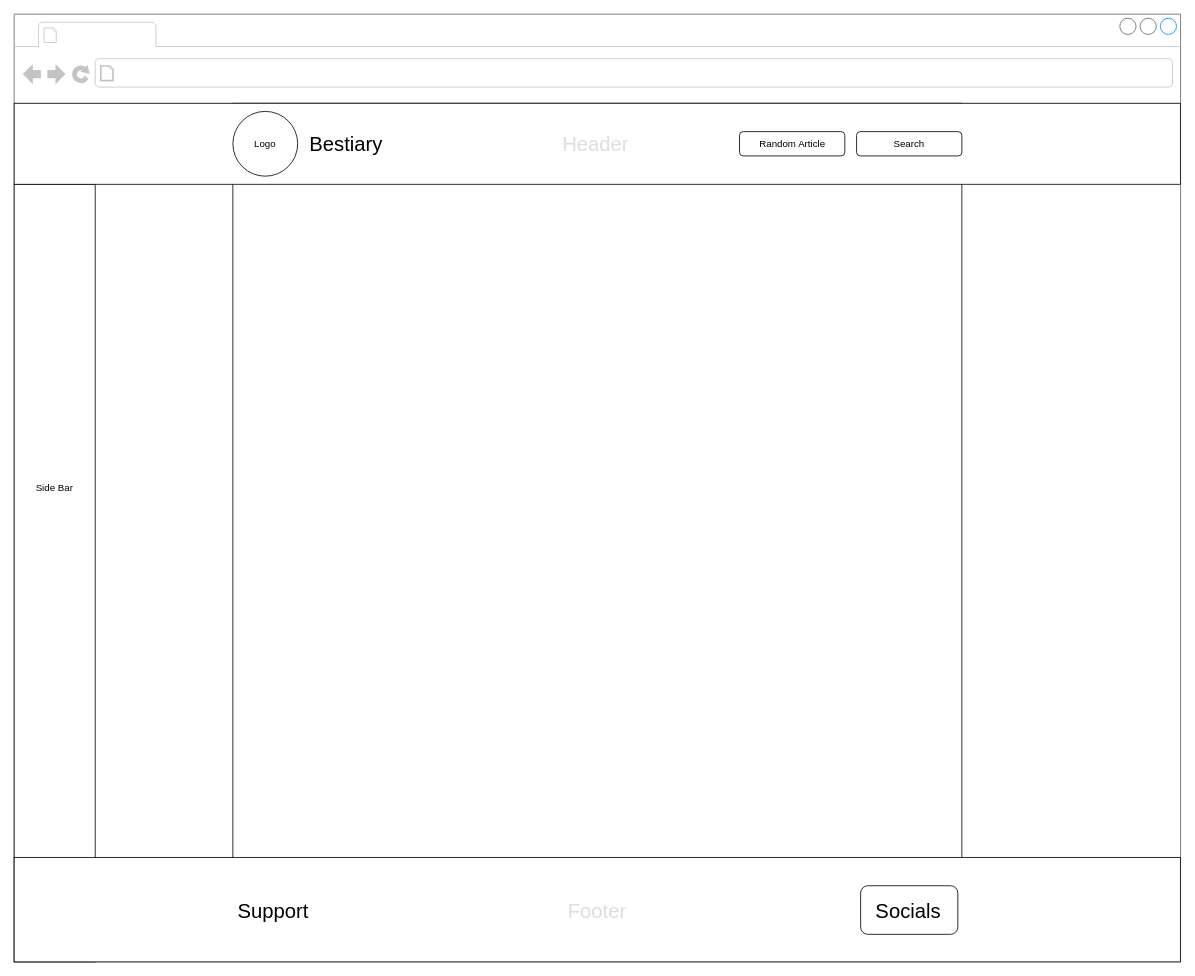
This 1195x976 diagram has some shape labels left out. Here are the shapes that lost their labels. From the top down, the centre of each, then its label:
pixel 107 34: Page 1
pixel 220 73: https://www.draw.io
